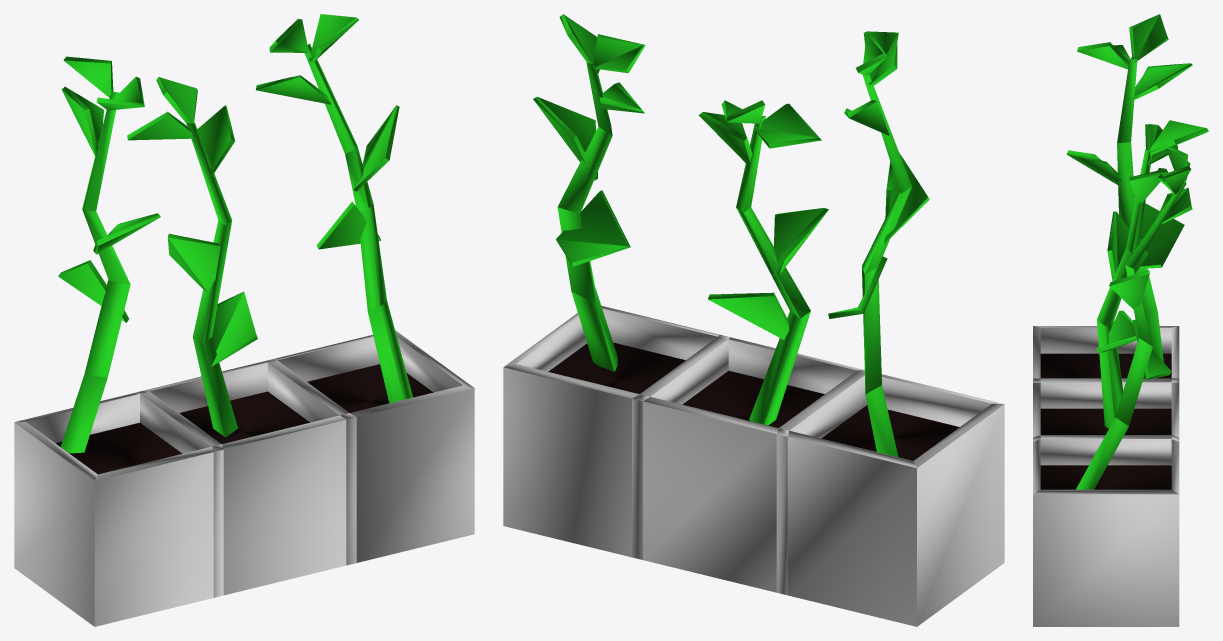
File: Potted Plant 1.fbx
3 views of the same model, side by side, from view 1: azimuth 30°, elevation 25°; view 2: azimuth 150°, elevation 25°; view 3: azimuth 270°, elevation 25° (orthographic). The views are drawn at different scales.
Parts seen in each view (by area): view 1: Node 0; view 2: Node 0; view 3: Node 0.
Part boxes in pixels (box(x1,y1,x2,y2)): Node 0: box(14, 14, 474, 626); Node 0: box(503, 14, 1004, 626); Node 0: box(1033, 14, 1208, 626).
Size of the model in its own units: 0.176 by 0.5109 by 0.3991.
